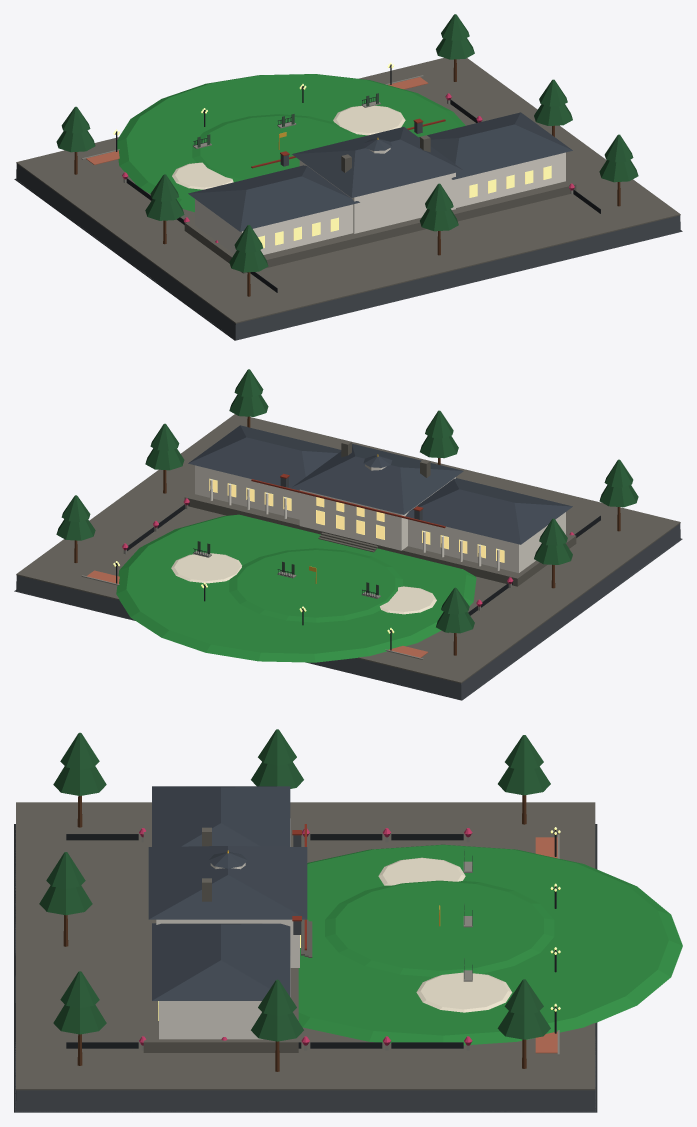
Rendered from lm_51_nha_cau_lac_bo_golf_doi_cu.glb.
3 renders of one model, top to bottom at view 1: azimuth 30°, elevation 25°; view 2: azimuth 150°, elevation 25°; view 3: azimuth 270°, elevation 25°, orthographic. The views are drawn at different scales.
Visible parts, largest first — view 1: Foundation_Plinth_Trim, DoiCu_Hole18_Putting_Green, Foundation_Skirt, Clubhouse_Ivory_Walls, DoiCu_Century_Pines, Clubhouse_Center_Manor_Slate_Roof, Clubhouse_Wing_Slate_Roof_West_Lounge, Clubhouse_Wing_Slate_Roof_East_ProShop, Clubhouse_Granite_Terrace_And_Chimneys, DoiCu_White_Sand_Bunkers, Clubhouse_Glowing_Windows, Phase2_WroughtIron_Balconies_Railings_Manholes (+2 smaller); view 2: DoiCu_Hole18_Putting_Green, Foundation_Plinth_Trim, Clubhouse_Ivory_Walls, Foundation_Skirt, DoiCu_Century_Pines, Clubhouse_Center_Manor_Slate_Roof, Clubhouse_Wing_Slate_Roof_West_Lounge, Clubhouse_Wing_Slate_Roof_East_ProShop, Clubhouse_Granite_Terrace_And_Chimneys, DoiCu_White_Sand_Bunkers, Clubhouse_Glowing_Windows, Phase2_WroughtIron_Balconies_Railings_Manholes (+2 smaller); view 3: Foundation_Plinth_Trim, DoiCu_Hole18_Putting_Green, Foundation_Skirt, DoiCu_Century_Pines, Clubhouse_Center_Manor_Slate_Roof, Clubhouse_Wing_Slate_Roof_East_ProShop, Clubhouse_Wing_Slate_Roof_West_Lounge, Clubhouse_Granite_Terrace_And_Chimneys, Clubhouse_Ivory_Walls, DoiCu_White_Sand_Bunkers, Phase2_WroughtIron_Balconies_Railings_Manholes, Clubhouse_Timber_Gable_And_Trunks (+2 smaller).
Part boxes in pixels (x1,y1,x2,y2): Foundation_Plinth_Trim: (16,58,680,323); DoiCu_Hole18_Putting_Green: (117,74,465,212); Foundation_Skirt: (14,164,682,340); Clubhouse_Ivory_Walls: (195,148,565,254); DoiCu_Century_Pines: (56,14,638,272); Clubhouse_Center_Manor_Slate_Roof: (292,127,463,197); Clubhouse_Wing_Slate_Roof_West_Lounge: (188,165,359,231); Clubhouse_Wing_Slate_Roof_East_ProShop: (419,112,572,179); Clubhouse_Granite_Terrace_And_Chimneys: (184,135,576,273); DoiCu_White_Sand_Bunkers: (172,105,405,189); Clubhouse_Glowing_Windows: (258,165,551,248); Phase2_WroughtIron_Balconies_Railings_Manholes: (115,64,600,292); DoiCu_Hole18_Putting_Green: (116,514,476,662); Foundation_Plinth_Trim: (16,414,680,683); Clubhouse_Ivory_Walls: (195,464,565,572); Foundation_Skirt: (14,523,682,700); DoiCu_Century_Pines: (56,369,638,633); Clubhouse_Center_Manor_Slate_Roof: (292,443,463,514); Clubhouse_Wing_Slate_Roof_West_Lounge: (405,478,572,544); Clubhouse_Wing_Slate_Roof_East_ProShop: (188,425,341,490); Clubhouse_Granite_Terrace_And_Chimneys: (184,440,576,586); DoiCu_White_Sand_Bunkers: (171,553,436,614); Clubhouse_Glowing_Windows: (209,478,504,562); Phase2_WroughtIron_Balconies_Railings_Manholes: (116,503,600,650); Foundation_Plinth_Trim: (16,802,595,1090); DoiCu_Hole18_Putting_Green: (298,844,682,1045); Foundation_Skirt: (14,824,597,1112); DoiCu_Century_Pines: (39,729,550,1041); Clubhouse_Center_Manor_Slate_Roof: (148,846,307,919); Clubhouse_Wing_Slate_Roof_East_ProShop: (152,923,290,1000); Clubhouse_Wing_Slate_Roof_West_Lounge: (152,786,290,846); Clubhouse_Granite_Terrace_And_Chimneys: (143,827,312,1052); Clubhouse_Ivory_Walls: (156,818,299,1039); DoiCu_White_Sand_Bunkers: (378,857,512,1012); Phase2_WroughtIron_Balconies_Railings_Manholes: (66,830,558,1048); Clubhouse_Timber_Gable_And_Trunks: (63,795,526,1071).
Size of the model in its own units: 96.85 by 18.5 by 94.86.
